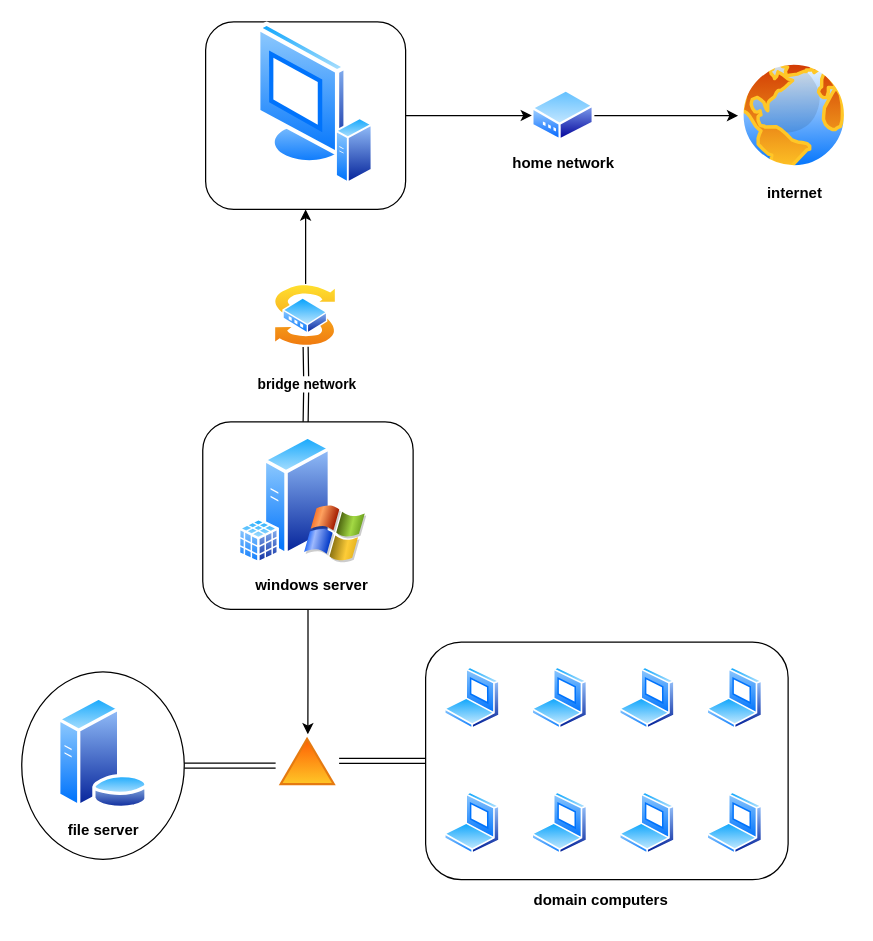
Some shapes in this 873 by 941 pixel diagram are drawn without their labels. The shapes that lost their labels are listed below. From the top down, each one's centre as x and y in pixels, then its label:
At point 302,92: "host (workstation)".
At point 307,760: "domain controller".
